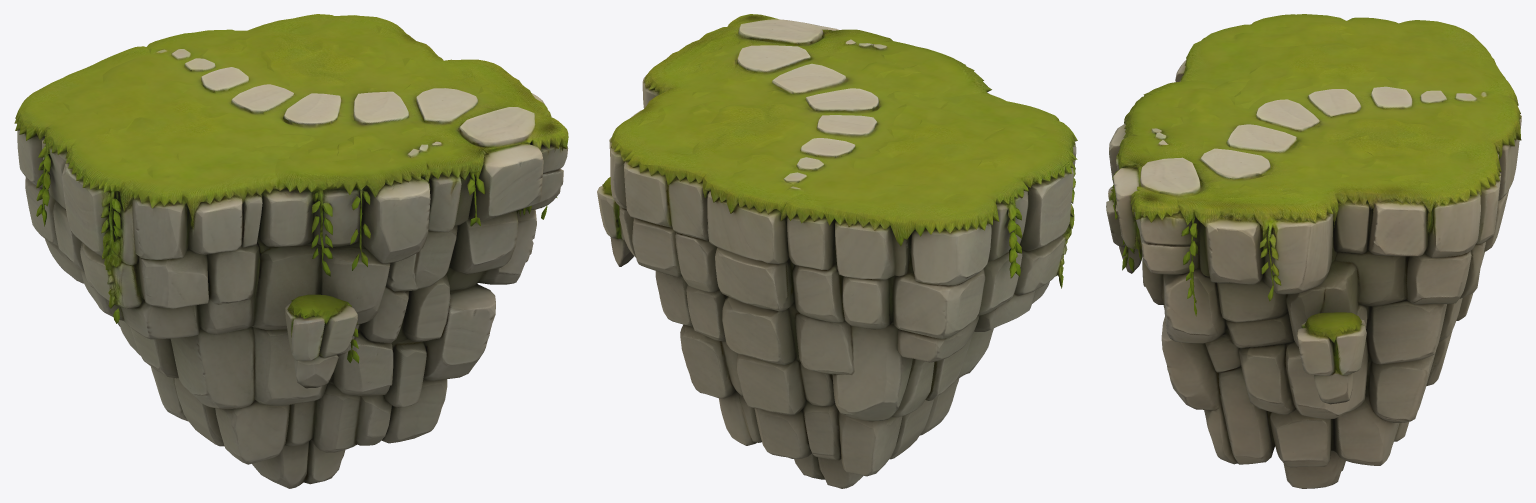
The model's file is floating_island.glb.
The picture shows the model from 3 angles, left to right: view 1: azimuth 30°, elevation 25°; view 2: azimuth 150°, elevation 25°; view 3: azimuth 270°, elevation 25°; orthographic projection. The views are drawn at different scales.
Parts seen in each view (by area): view 1: model; view 2: model; view 3: model.
Part boxes in pixels (<box>): model: <box>14,14,568,488</box>; model: <box>597,14,1077,488</box>; model: <box>1106,14,1521,488</box>.
Bounding box in the file's own units: 1.9 × 1.5 × 1.55.
Materials: 1 (1 with a texture image).
